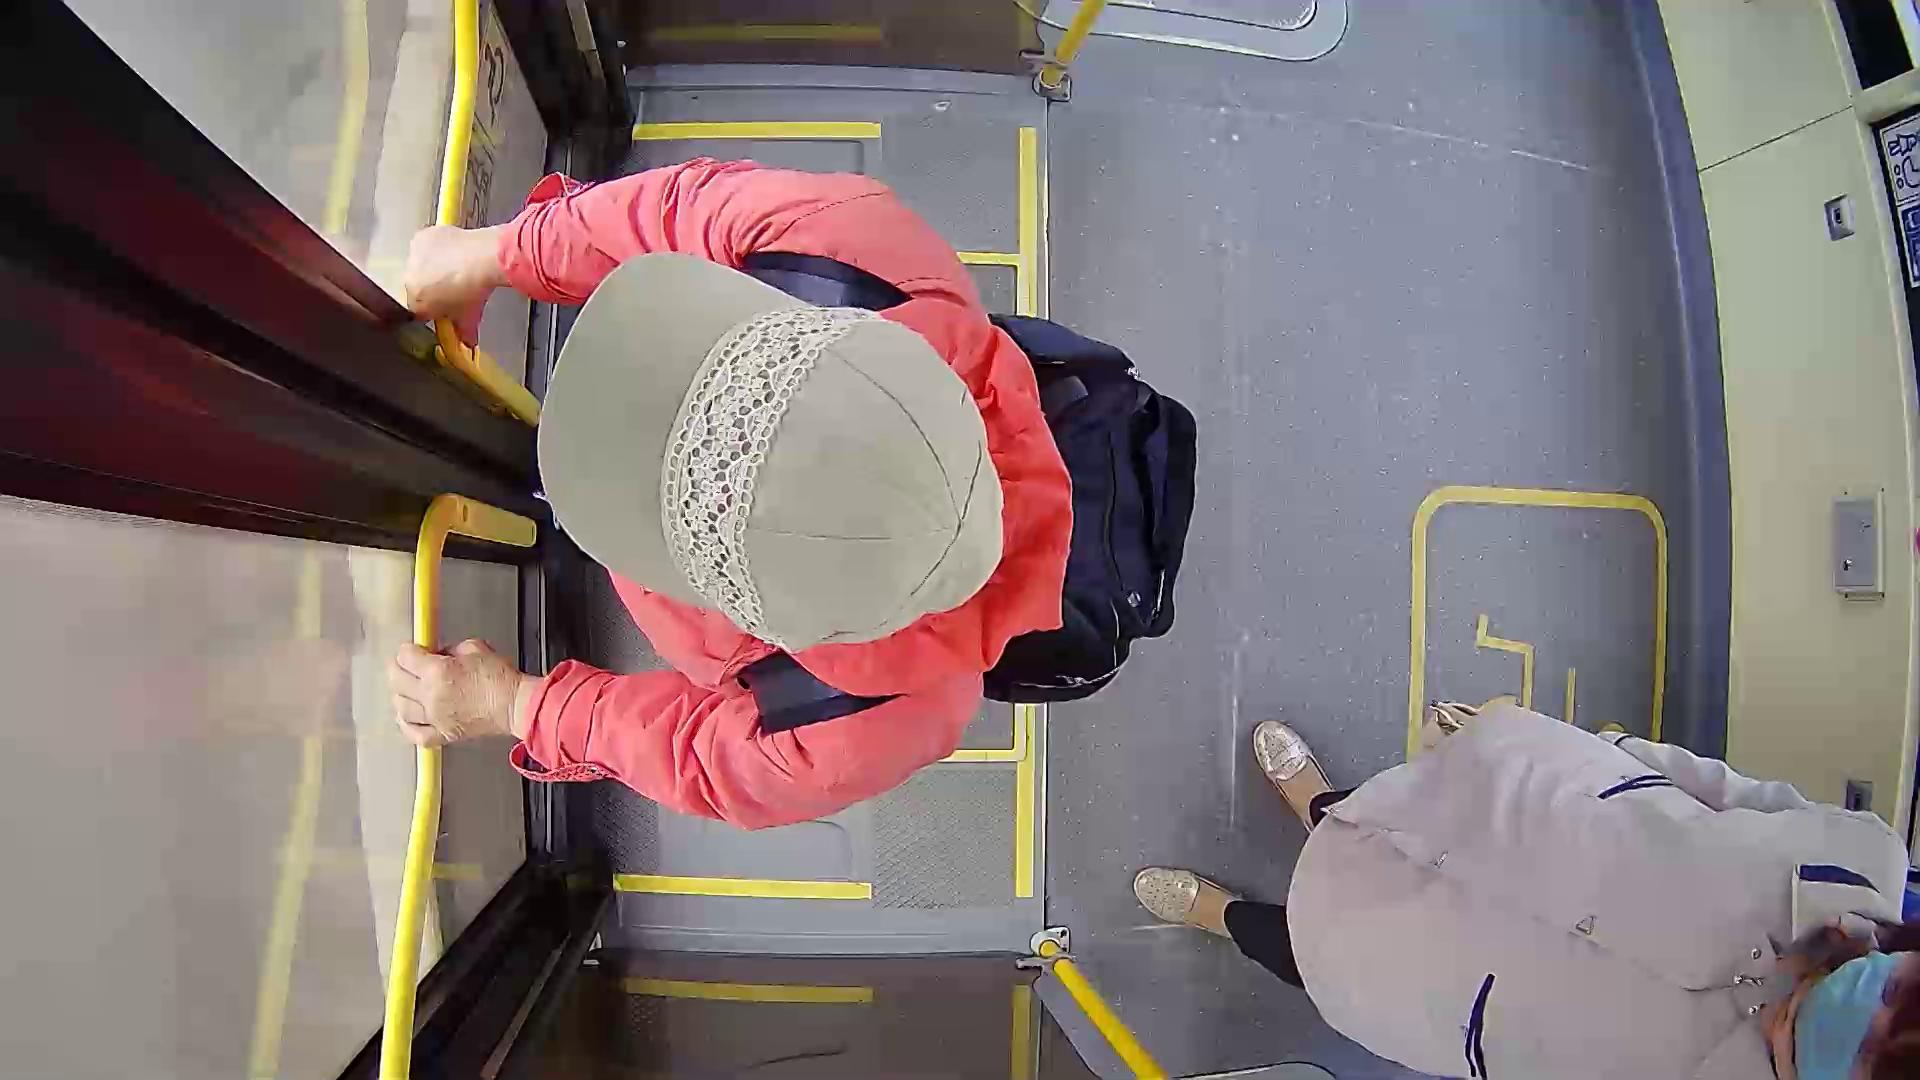person: (425, 168, 1164, 804)
